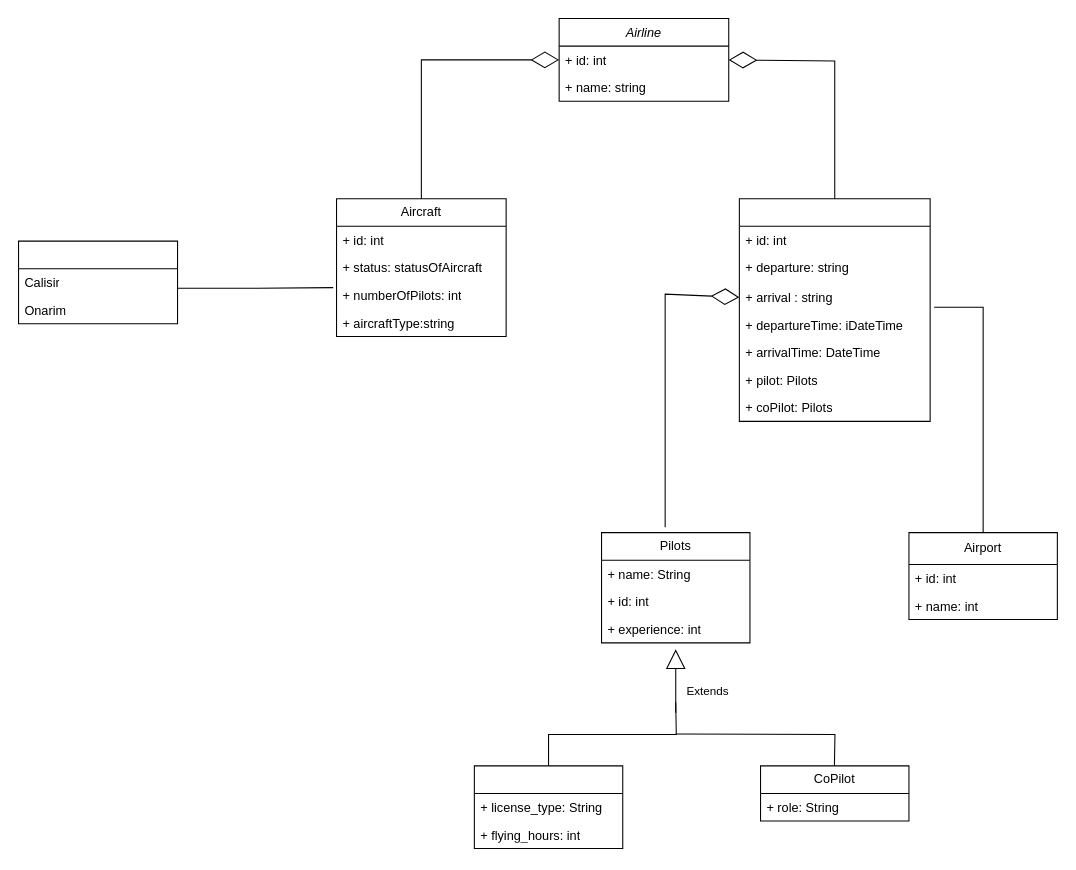
Some shapes in this 1076 by 870 pixel diagram are drawn without their labels. The shapes that lost their labels are listed below. From the top down, each one's box as (x1, y1, x2, y2) in pixels, then its label:
(17, 240, 178, 324): «enumeration» statusOfAircraft
(738, 198, 930, 421): Flight
(473, 765, 623, 849): Pilot
